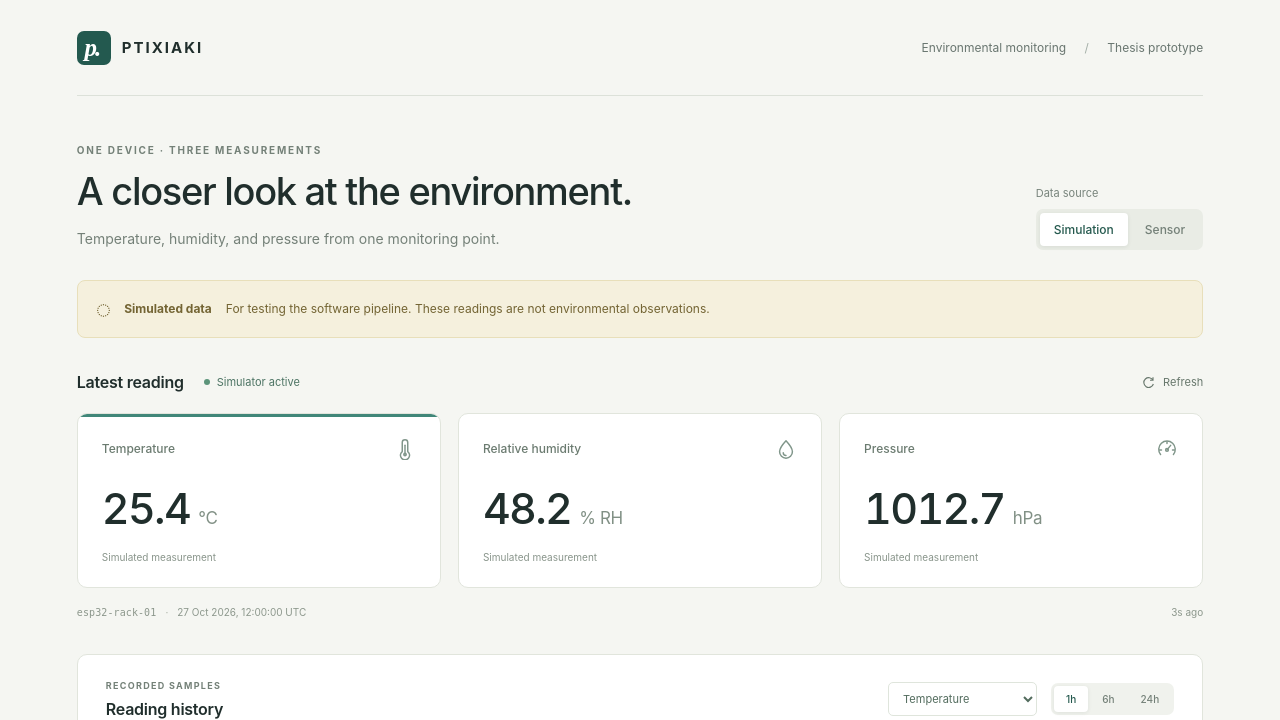
Test case: dashboard data integrity › retains readings after a failed refresh and explicitly marks them stale
Expected: the text "25.4" is shown, [102, 482, 190, 534]
Click the button with aria-label "Refresh readings" at (1167, 382), box [1131, 368, 1203, 397]
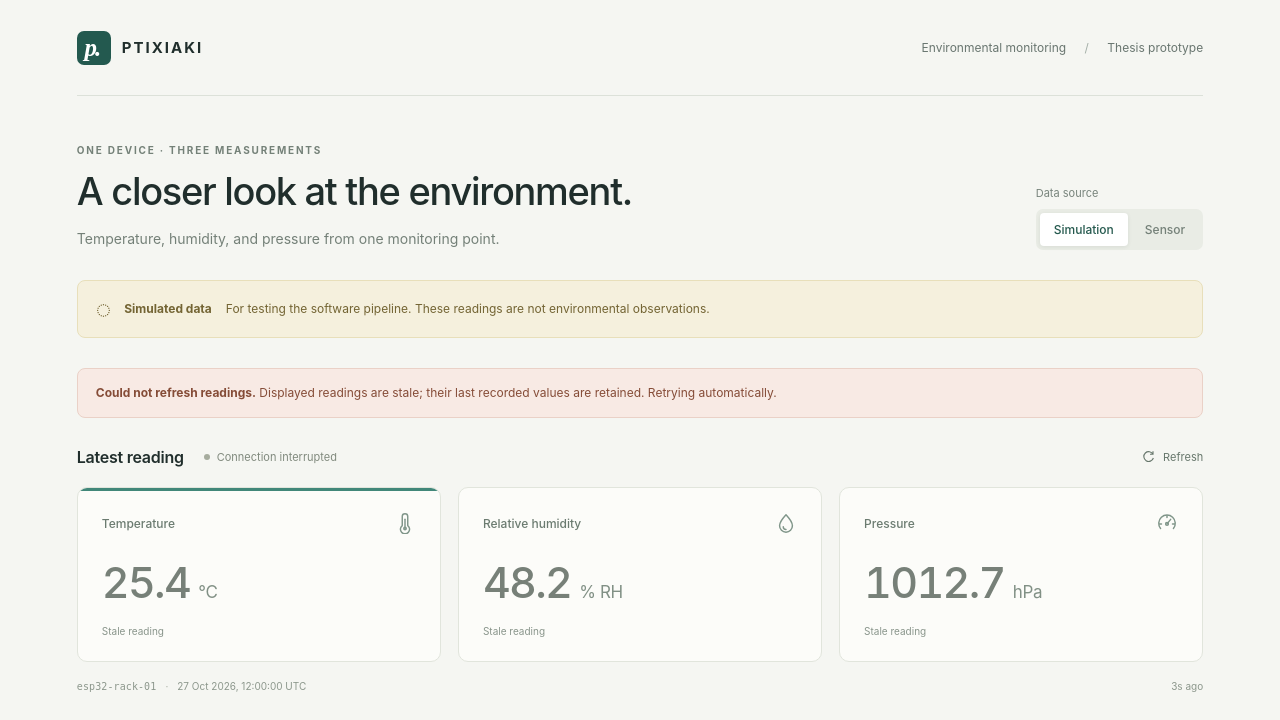
Expected: the text "25.4" is shown, [102, 556, 190, 608]
Now the message that starts with "Could not refresh readings." shows "Displayed readings are stale", box [259, 385, 644, 400]
Now the text "Connection interrupted" is shown, box [204, 450, 337, 464]
